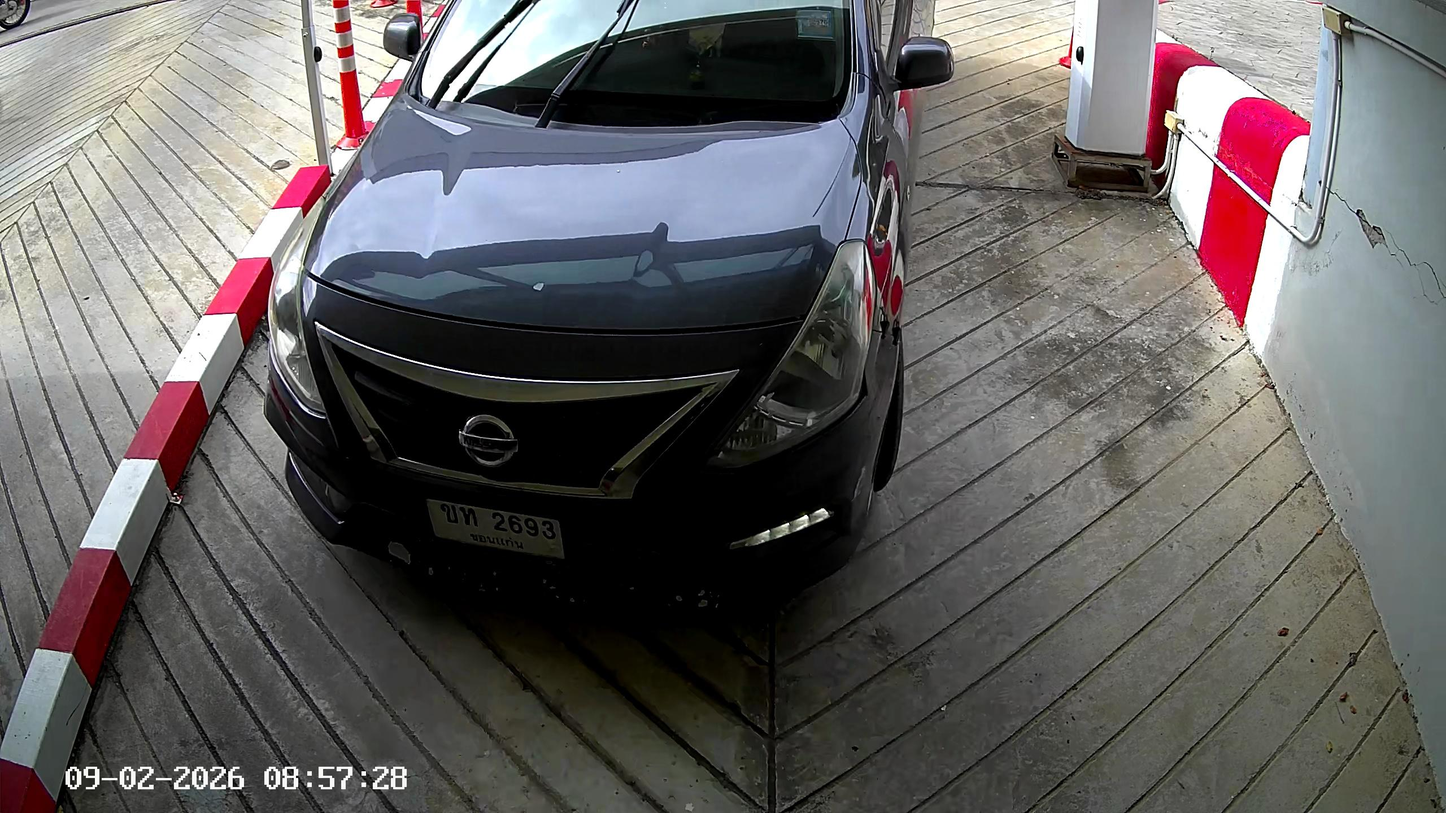car: (264, 4, 955, 582)
license-plate: (423, 489, 568, 565)
